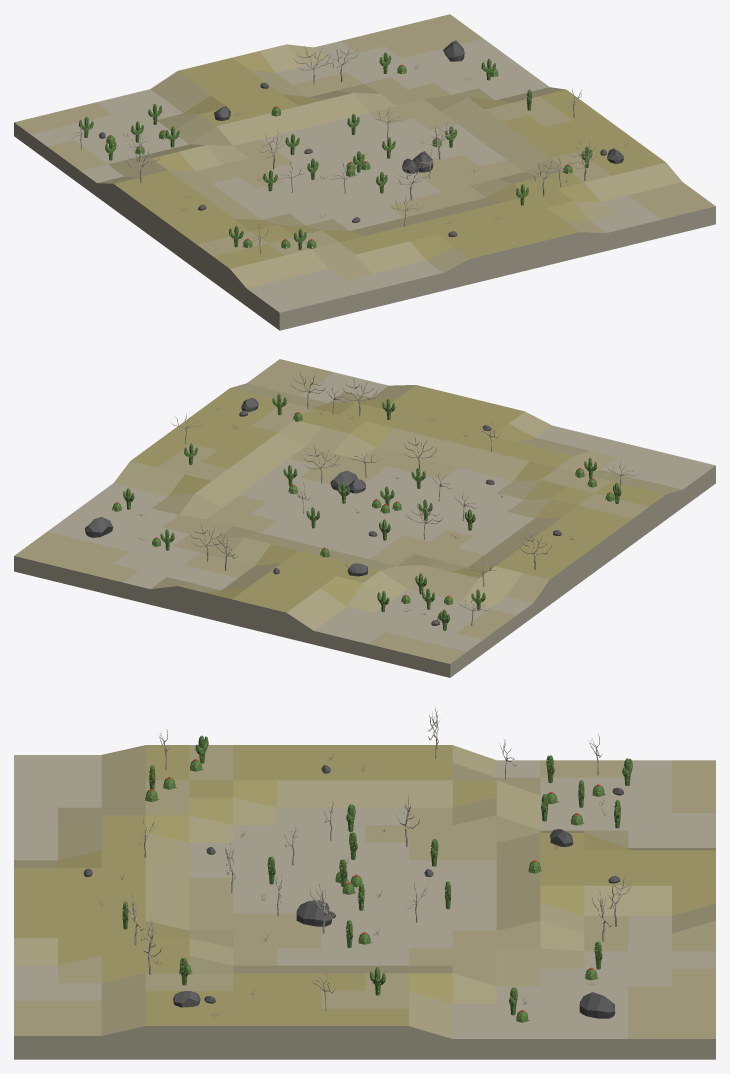
The model's file is fase_caatinga.fbx.
3 views of the same model, one above another, from view 1: azimuth 30°, elevation 25°; view 2: azimuth 150°, elevation 25°; view 3: azimuth 270°, elevation 25° (orthographic). The views are drawn at different scales.
Visible parts, largest first — view 1: Caatinga Terreno; view 2: Caatinga Terreno; view 3: Caatinga Terreno, Rocha 2.002, Rocha 2.001.
Boxes of the visible parts, <box> form: Caatinga Terreno: <box>14,14,715,330</box>; Caatinga Terreno: <box>14,359,715,677</box>; Caatinga Terreno: <box>14,745,715,1059</box>; Rocha 2.002: <box>579,992,615,1018</box>; Rocha 2.001: <box>296,900,331,926</box>.
Size of the model in its own units: 3600 by 494 by 3800.
